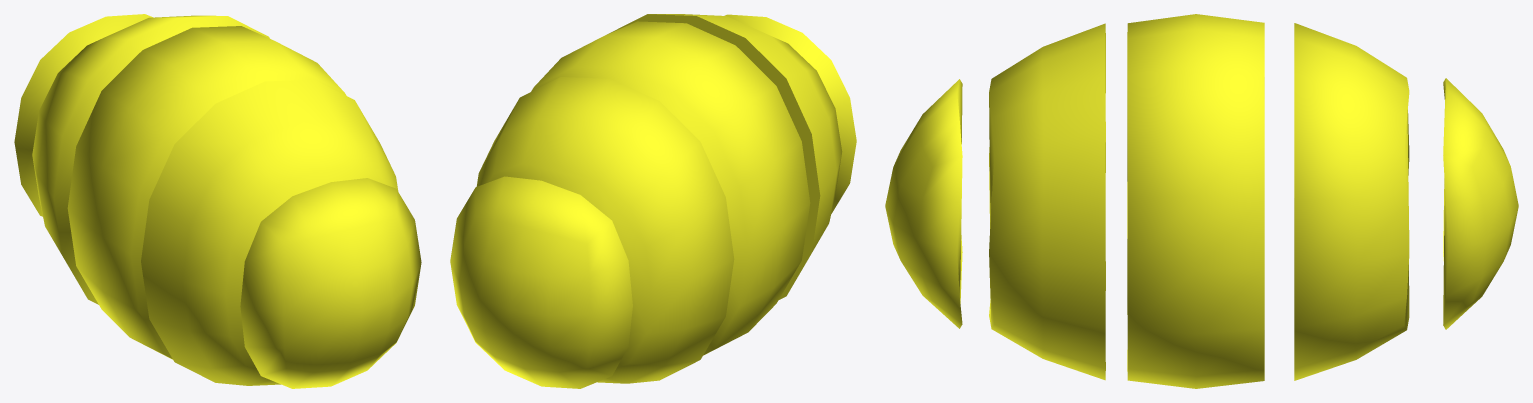
Rendered from kentang 4.fbx.
3 renders of one model, left to right at view 1: azimuth 30°, elevation 25°; view 2: azimuth 150°, elevation 25°; view 3: azimuth 270°, elevation 25°, orthographic. The views are drawn at different scales.
Parts seen in each view (by area): view 1: kentang.015, kentang.010, kentang.013, kentang.012, kentang.011; view 2: kentang.012, kentang.013, kentang.011, kentang.015, kentang.010; view 3: kentang.013, kentang.015, kentang.012, kentang.010, kentang.011.
Part boxes in pixels (<box>): kentang.015: <box>141,79,398,385</box>; kentang.010: <box>240,178,421,388</box>; kentang.013: <box>67,26,346,359</box>; kentang.012: <box>32,15,269,304</box>; kentang.011: <box>14,14,153,216</box>; kentang.012: <box>476,77,734,383</box>; kentang.013: <box>531,21,810,355</box>; kentang.011: <box>450,176,632,388</box>; kentang.015: <box>607,14,842,299</box>; kentang.010: <box>724,14,856,213</box>; kentang.013: <box>1127,14,1264,388</box>; kentang.015: <box>989,23,1105,380</box>; kentang.012: <box>1294,23,1409,380</box>; kentang.010: <box>885,79,962,328</box>; kentang.011: <box>1443,78,1518,329</box>.
Size of the model in its own units: 235 by 274 by 458.
